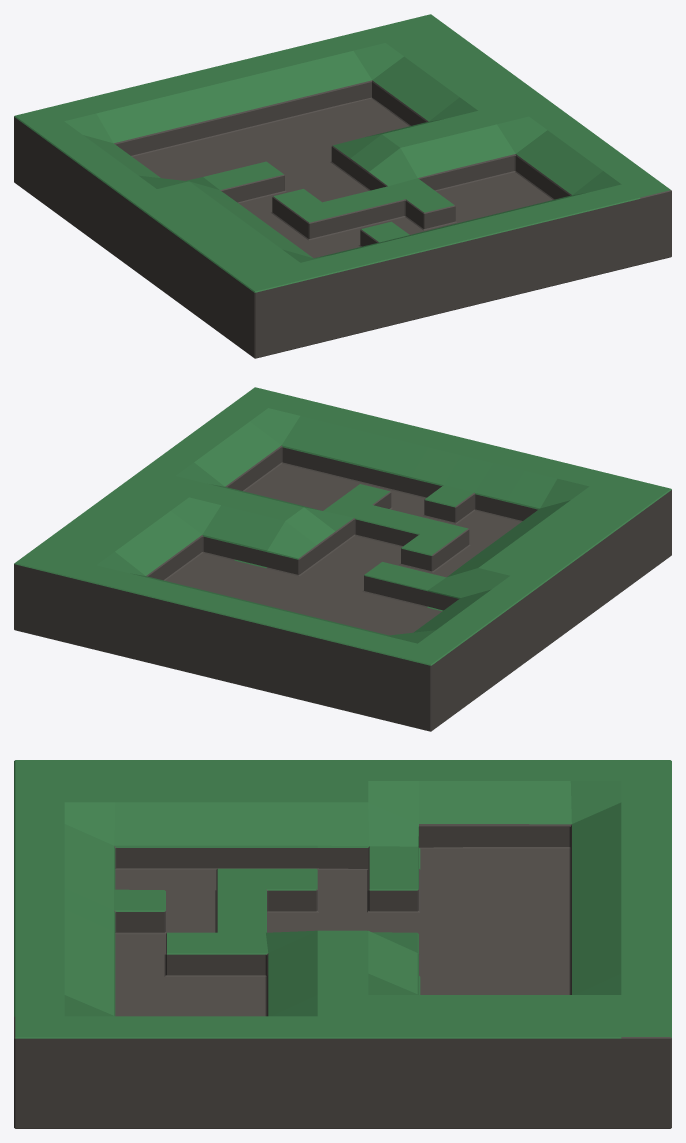
The model's file is Map_1.fbx.
The picture shows the model from 3 angles, top to bottom: view 1: azimuth 30°, elevation 25°; view 2: azimuth 150°, elevation 25°; view 3: azimuth 270°, elevation 25°; orthographic projection. The views are drawn at different scales.
Parts seen in each view (by area): view 1: Cube; view 2: Cube; view 3: Cube.
Part boxes in pixels (x1,y1,x2,y2): Cube: (14,14,671,358); Cube: (14,387,671,731); Cube: (14,760,671,1128).
Size of the model in its own units: 1300 by 200 by 1300.
